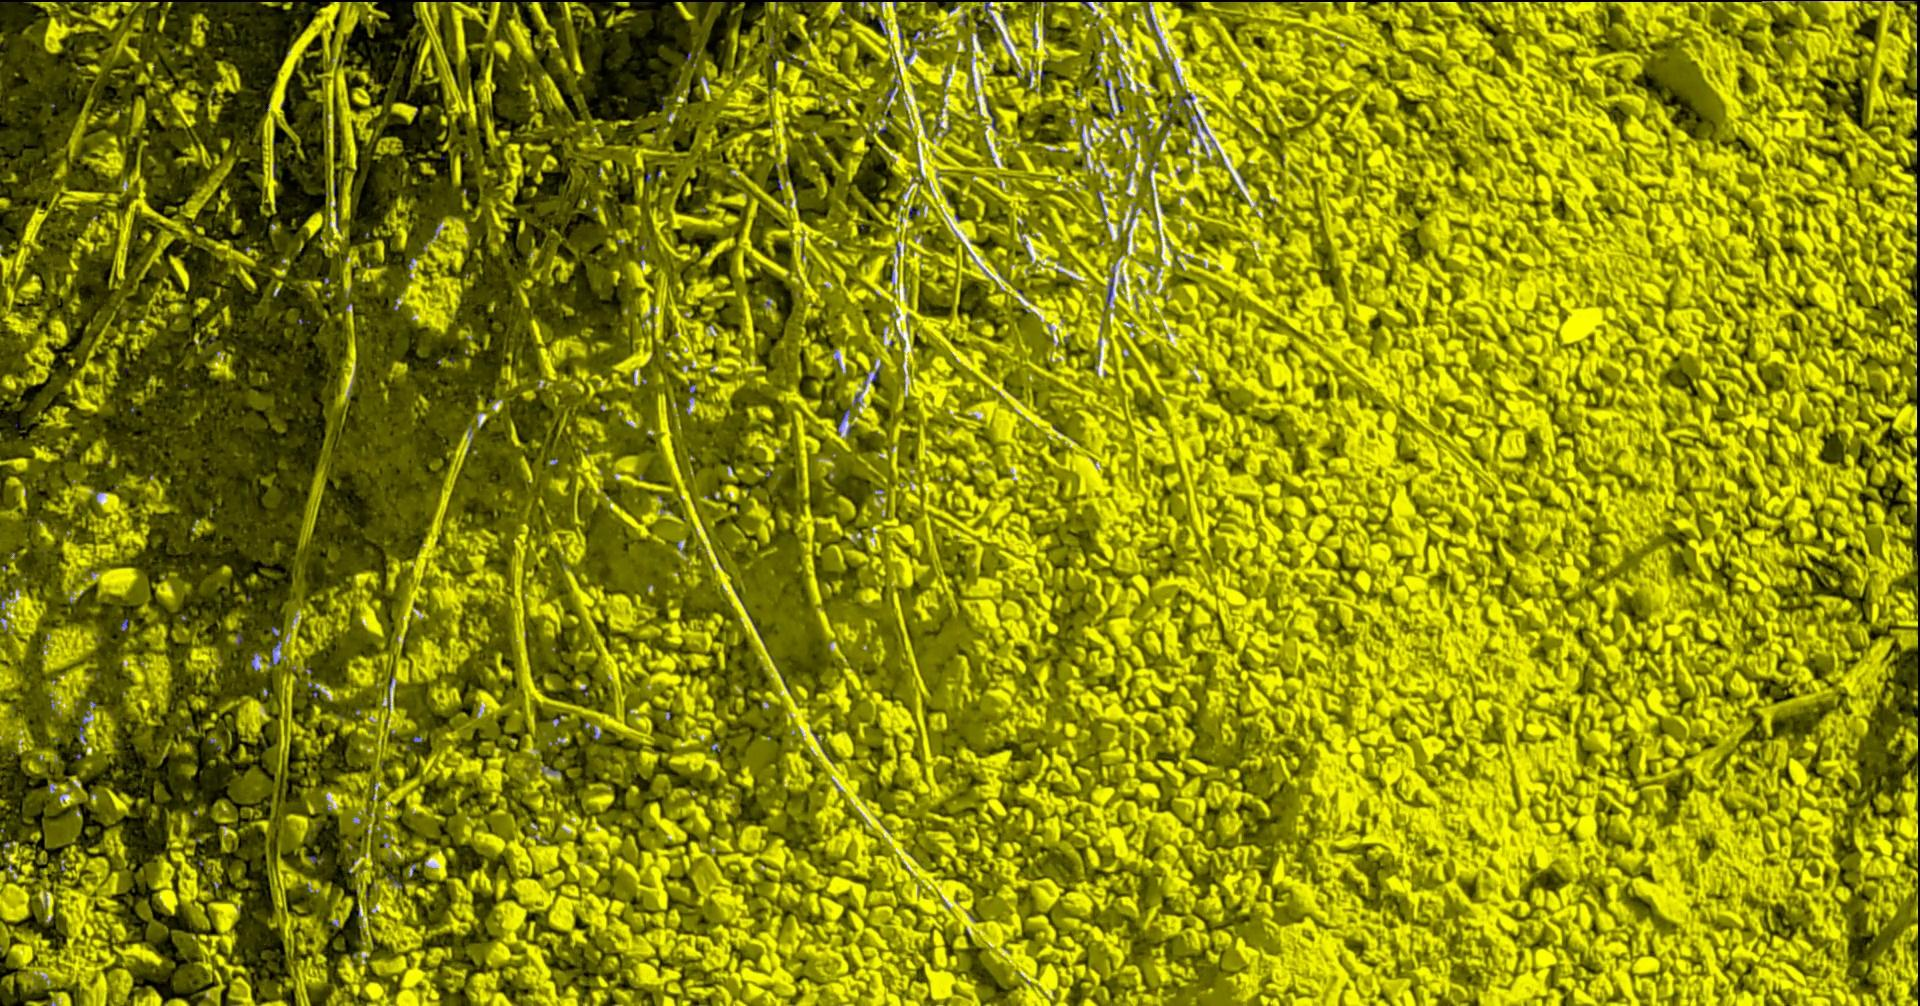ant: (1106, 265, 1114, 304)
